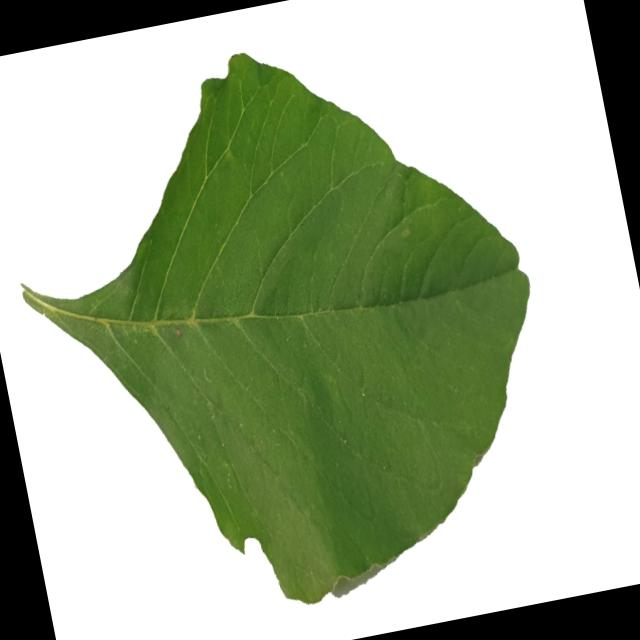Medicinal-Arive Dantu: (0, 8, 580, 640)
